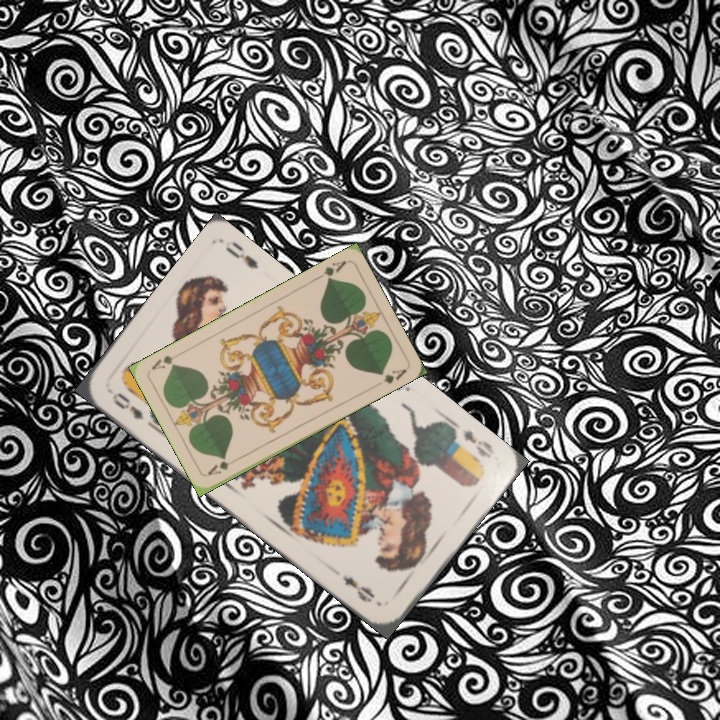EO: (448, 419, 497, 465), (108, 388, 146, 423)
GA: (312, 256, 349, 284), (204, 456, 232, 478)
